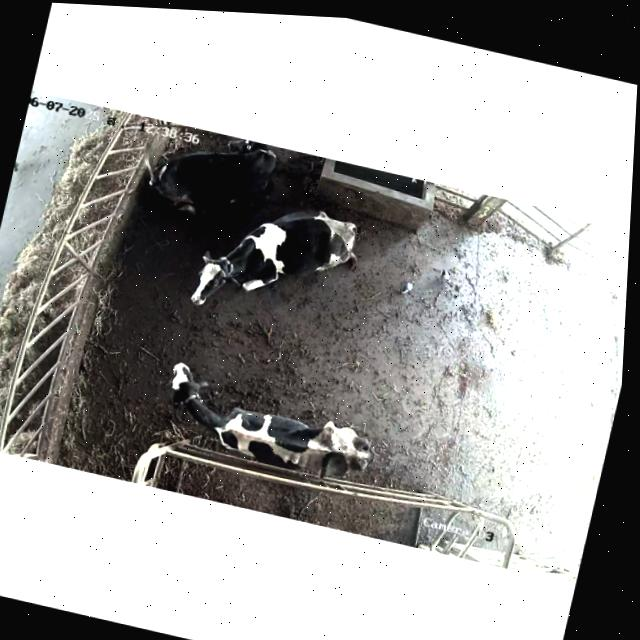stand: (128, 349, 391, 491)
